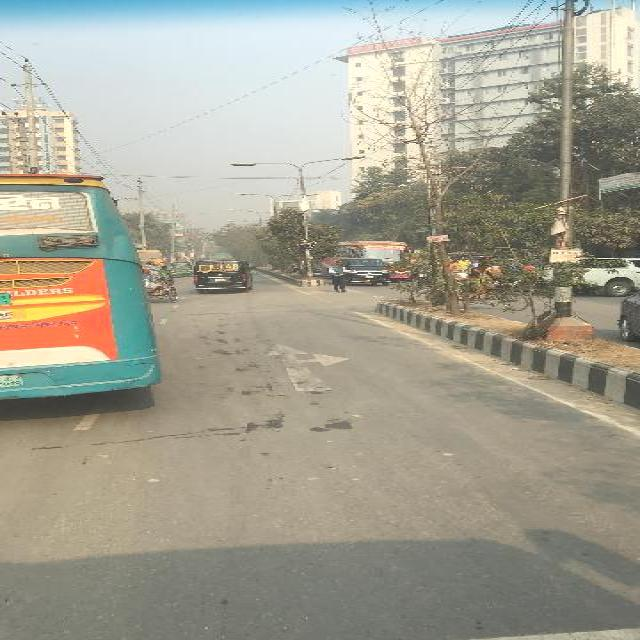BUS: (0, 168, 160, 409), (194, 256, 253, 294)
